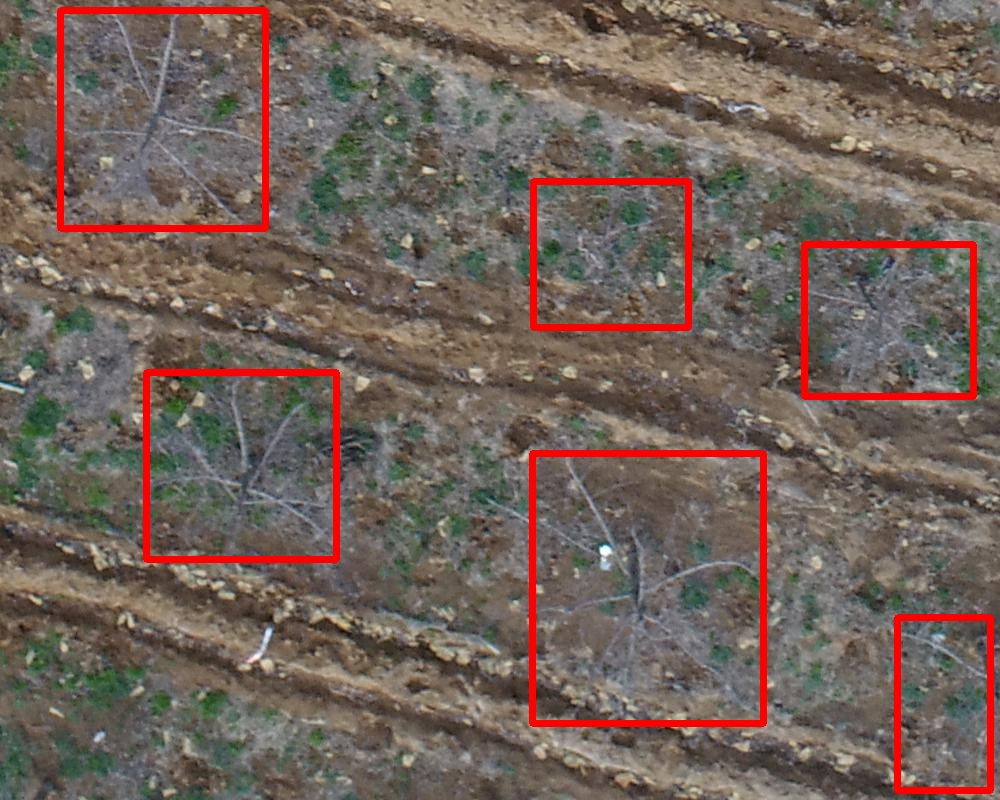apple: (532, 453, 763, 723), (60, 10, 265, 228), (146, 372, 336, 559), (804, 244, 973, 396), (533, 181, 688, 327), (897, 617, 990, 790)
